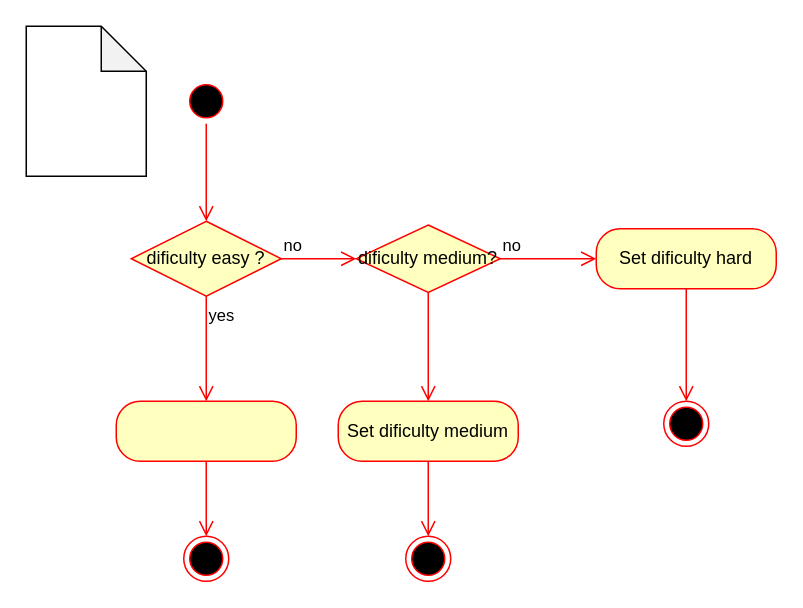
Image size: 803x608. Some labels were removed from this diagram. Each missing label, with the centre of its shape:
"Set dificulty easy" belongs at [205,430].
"User select his faction" belongs at [85,100].
